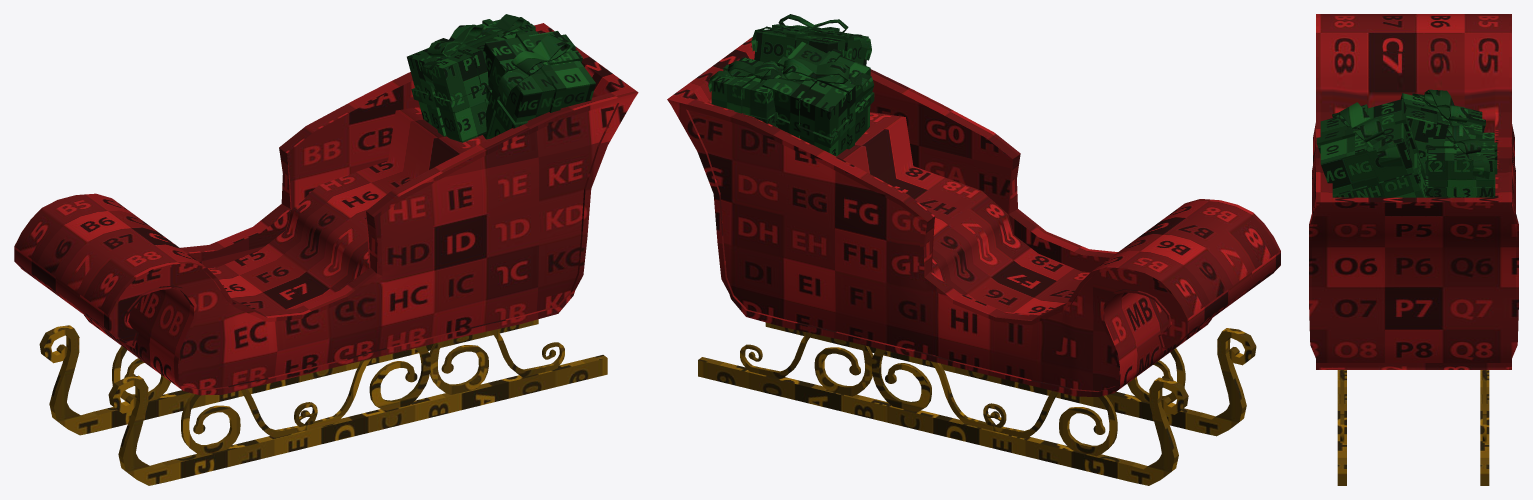
Rendered from Sleigh.fbx.
The picture shows the model from 3 angles, left to right: view 1: azimuth 30°, elevation 25°; view 2: azimuth 150°, elevation 25°; view 3: azimuth 270°, elevation 25°; orthographic projection. The views are drawn at different scales.
Visible parts, largest first — view 1: Sled, Skates1, PresentBox (×2), Skates, Ribbon (×2); view 2: Sled, Skates, PresentBox (×3), Skates1, Ribbon (×3); view 3: Sled, PresentBox (×3), Ribbon (×3), Skates, Skates1.
Part boxes in pixels (left/top/right/bottom): Sled: left=14, top=23, right=638, bottom=395; Skates1: left=108, top=329, right=607, bottom=485; PresentBox (×2): left=407, top=30, right=595, bottom=142; Skates: left=39, top=319, right=538, bottom=435; Ribbon (×2): left=422, top=24, right=575, bottom=105; Sled: left=667, top=37, right=1280, bottom=396; Skates: left=698, top=332, right=1188, bottom=485; PresentBox (×3): left=711, top=24, right=874, bottom=156; Skates1: left=765, top=322, right=1256, bottom=436; Ribbon (×3): left=708, top=14, right=874, bottom=99; Sled: left=1309, top=14, right=1518, bottom=369; PresentBox (×3): left=1316, top=93, right=1497, bottom=197; Ribbon (×3): left=1332, top=89, right=1489, bottom=179; Skates: left=1480, top=370, right=1489, bottom=485; Skates1: left=1337, top=370, right=1346, bottom=485.
Size of the model in its own units: 4.54 by 2.75 by 1.51.
3 materials, 3 textured.
